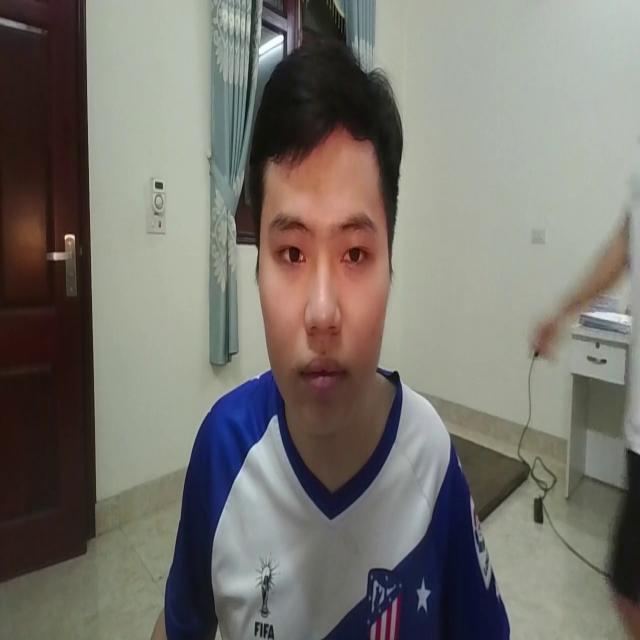student: (136, 37, 522, 640)
